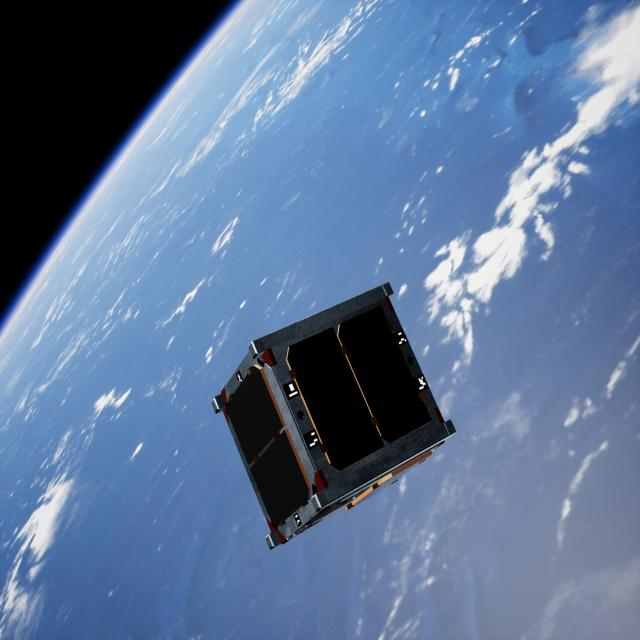satellite: (210, 283, 458, 555)
